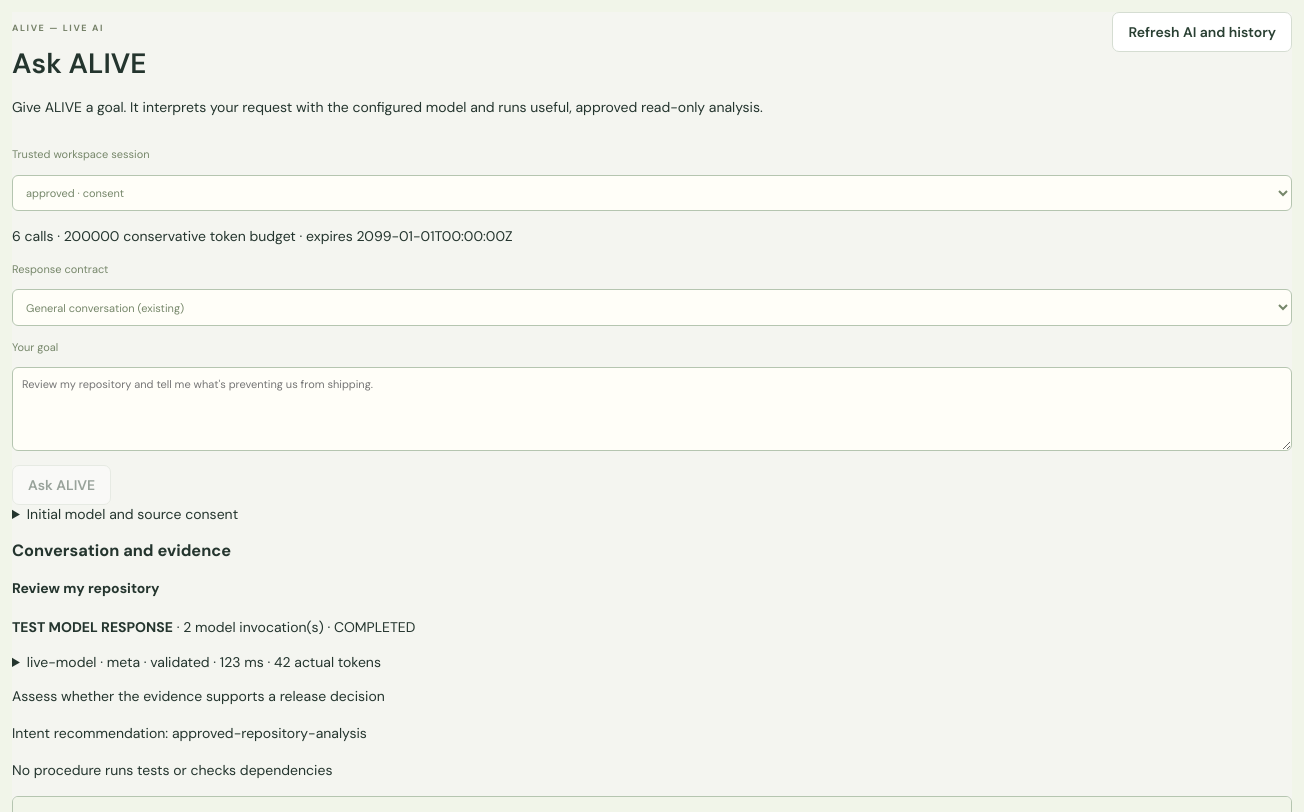
clearly labels injected upstream responses and separates requested from observed identity
expect the text "TEST MODEL RESPONSE" is shown: met, box [12, 618, 173, 636]
Click the heading "live-model · meta · validated · 123 ms · 42 actual tokens": click(204, 662) [27, 653, 381, 671]
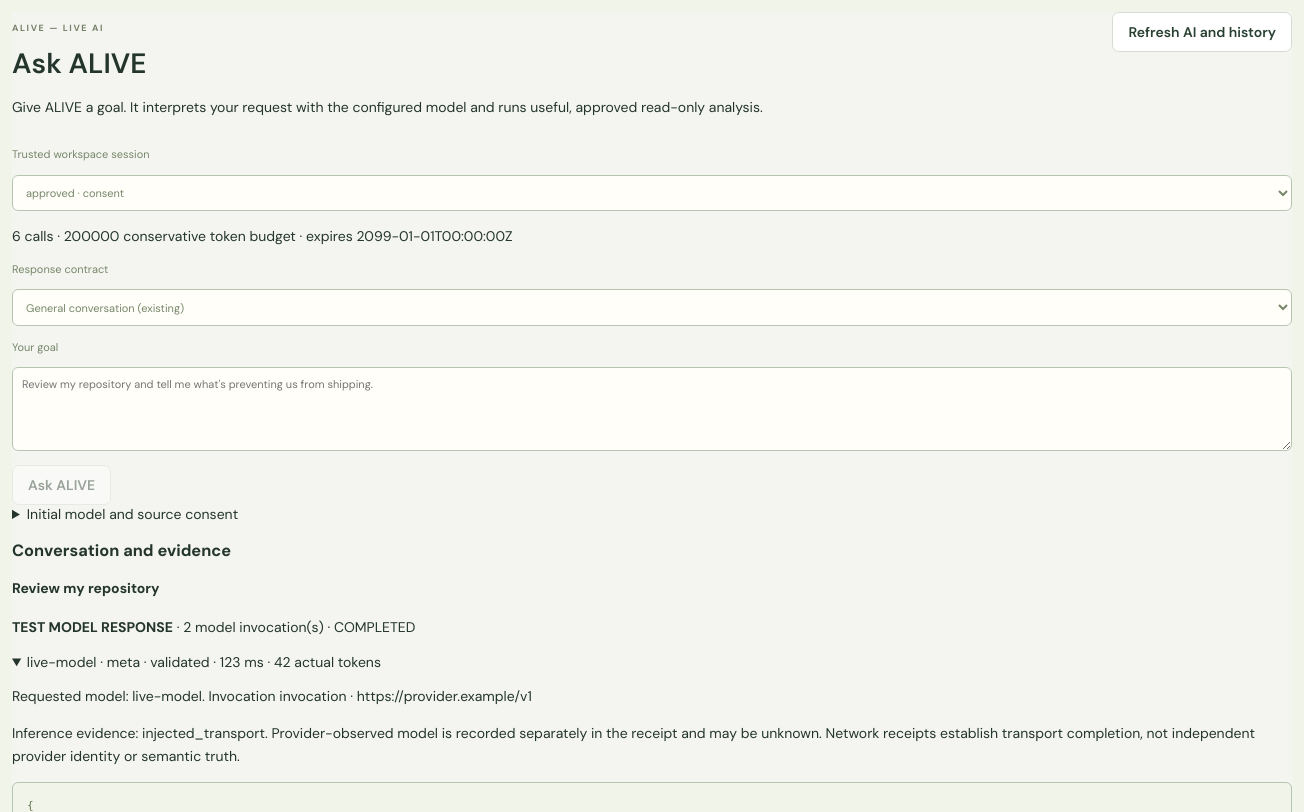
expect the text "Requested model: live-model" is shown: met, box [12, 687, 532, 705]
expect the text "Inference evidence: injected_transport" is shown: met, box [12, 722, 1292, 768]
